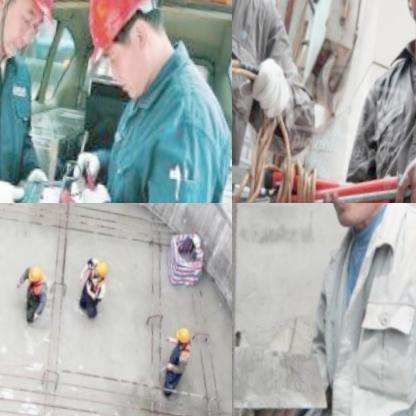helmet: (72, 0, 187, 97), (0, 0, 71, 62), (26, 258, 48, 284), (174, 317, 194, 341), (94, 252, 112, 278)
